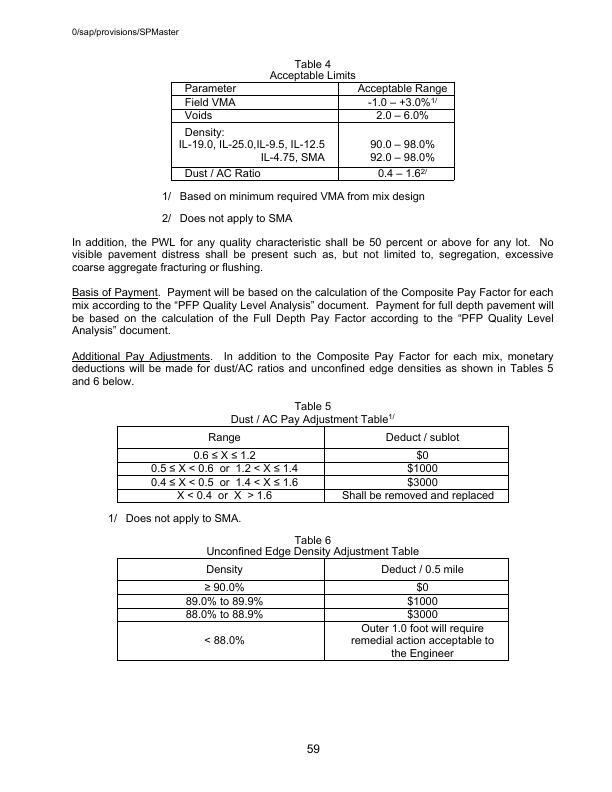table: (114, 556, 513, 666), (115, 424, 516, 508), (169, 80, 458, 185)
text: (69, 286, 560, 338), (69, 349, 558, 393), (68, 235, 561, 277), (159, 189, 431, 225), (205, 531, 423, 557), (227, 398, 396, 425), (106, 511, 245, 526), (268, 57, 356, 80)
